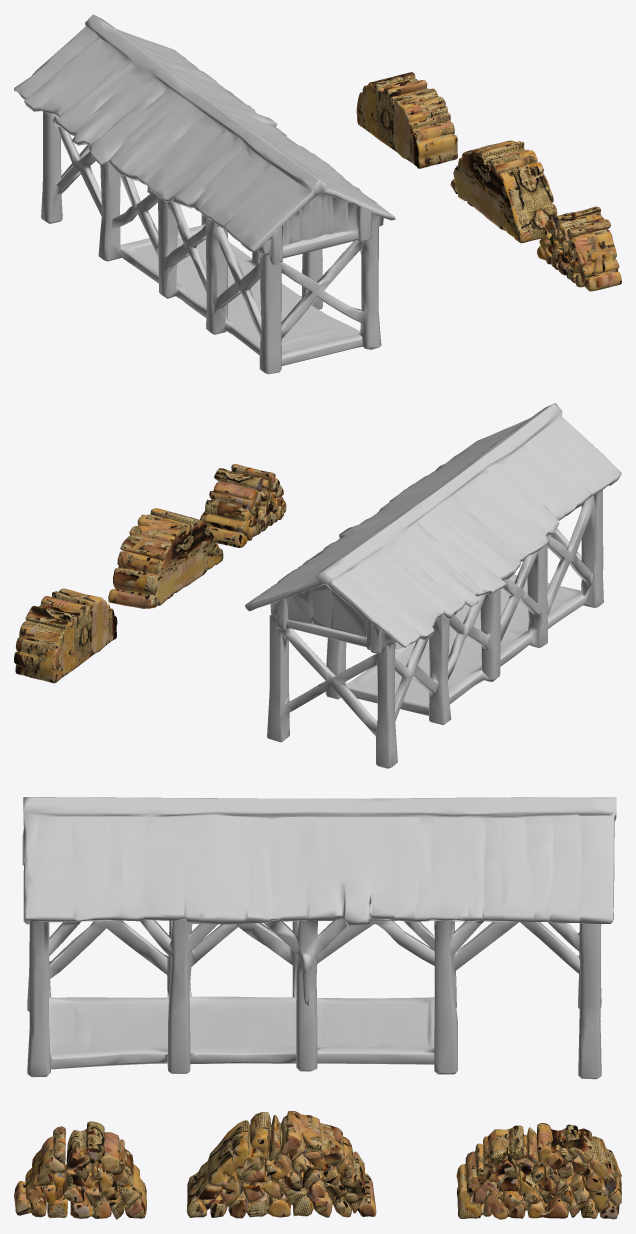
File: Holzlager.fbx
The picture shows the model from 3 angles, top to bottom: view 1: azimuth 30°, elevation 25°; view 2: azimuth 150°, elevation 25°; view 3: azimuth 270°, elevation 25°; orthographic projection. The views are drawn at different scales.
Parts seen in each view (by area): view 1: meshes[0], Holz Mittel, tripo_node_5b0c83d2, tripo_node_5281ed0c; view 2: meshes[0], Holz Mittel, tripo_node_5b0c83d2, tripo_node_5281ed0c; view 3: meshes[0], Holz Mittel, tripo_node_5b0c83d2, tripo_node_5281ed0c.
Part boxes in pixels (left/top/right/bottom): meshes[0]: left=14, top=14, right=395, bottom=374; Holz Mittel: left=450, top=140, right=557, bottom=243; tripo_node_5b0c83d2: left=356, top=72, right=457, bottom=168; tripo_node_5281ed0c: left=537, top=206, right=621, bottom=291; meshes[0]: left=245, top=403, right=621, bottom=768; Holz Mittel: left=108, top=508, right=223, bottom=608; tripo_node_5b0c83d2: left=14, top=588, right=117, bottom=683; tripo_node_5281ed0c: left=200, top=464, right=286, bottom=547; meshes[0]: left=22, top=797, right=616, bottom=1079; Holz Mittel: left=186, top=1111, right=376, bottom=1218; tripo_node_5b0c83d2: left=456, top=1123, right=621, bottom=1219; tripo_node_5281ed0c: left=14, top=1121, right=146, bottom=1219.
Size of the model in its own units: 358 by 161 by 366.
